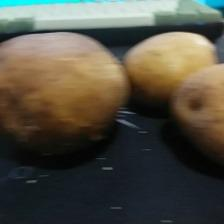Damaged potato: (2, 31, 136, 146), (168, 58, 222, 152)
Potato: (121, 29, 222, 103)
